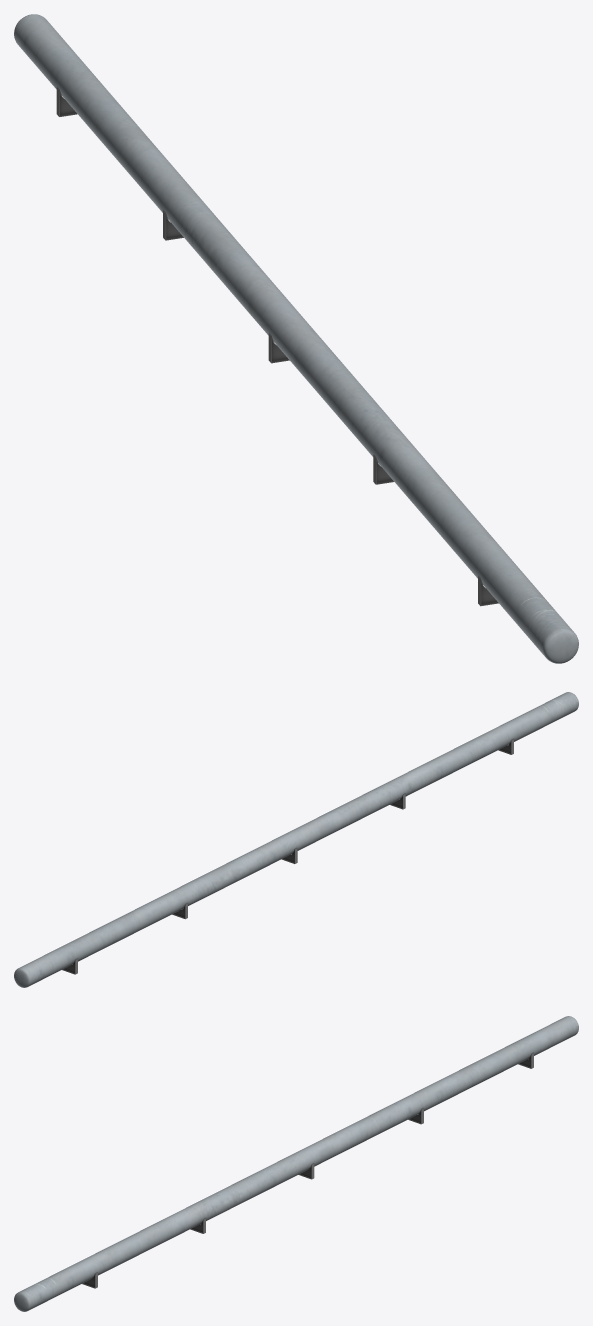
The model's file is LPReservoir-v1.glb.
The picture shows the model from 3 angles, top to bottom: view 1: azimuth 30°, elevation 25°; view 2: azimuth 150°, elevation 25°; view 3: azimuth 330°, elevation 25°; orthographic projection. The views are drawn at different scales.
Parts seen in each view (by area): view 1: LPReservoir; view 2: LPReservoir; view 3: LPReservoir.
Part boxes in pixels (x1,y1,x2,y2): LPReservoir: (14,14,578,663); LPReservoir: (14,692,578,987); LPReservoir: (14,1016,578,1311).
Size of the model in its own units: 1.84 by 0.3111 by 9.24.
Materials: 1 (1 with a texture image).
